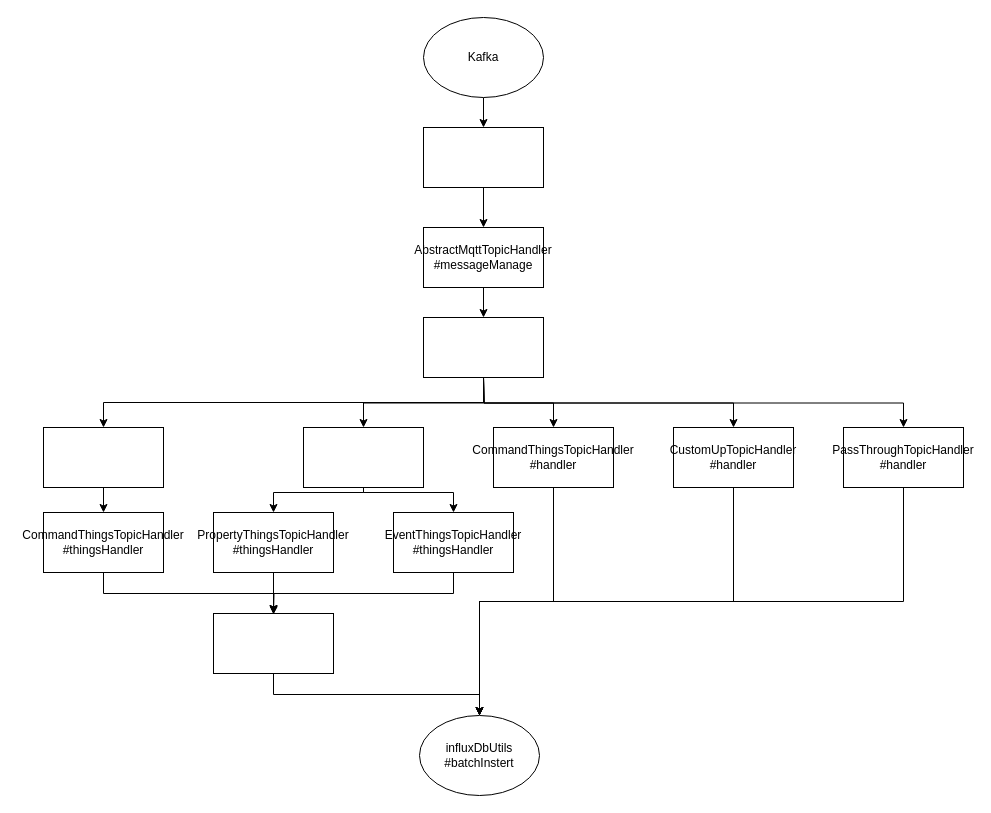
This 991x813 diagram has some shape labels left out. The centre of each missing label's shape, as x and y in pixels:
"AbstractMqttTopicHandler #handler" goes at pixel 483 347.
"AbstractThingsEventPropHandler #handler" goes at pixel 363 457.
"AbstractThingsMqttTopicHandler #handler" goes at pixel 103 457.
"DeviceUpListener# onDeviceUpMessage" goes at pixel 483 157.
"ThingsHandleUtil #thingsHandle" goes at pixel 273 643.
